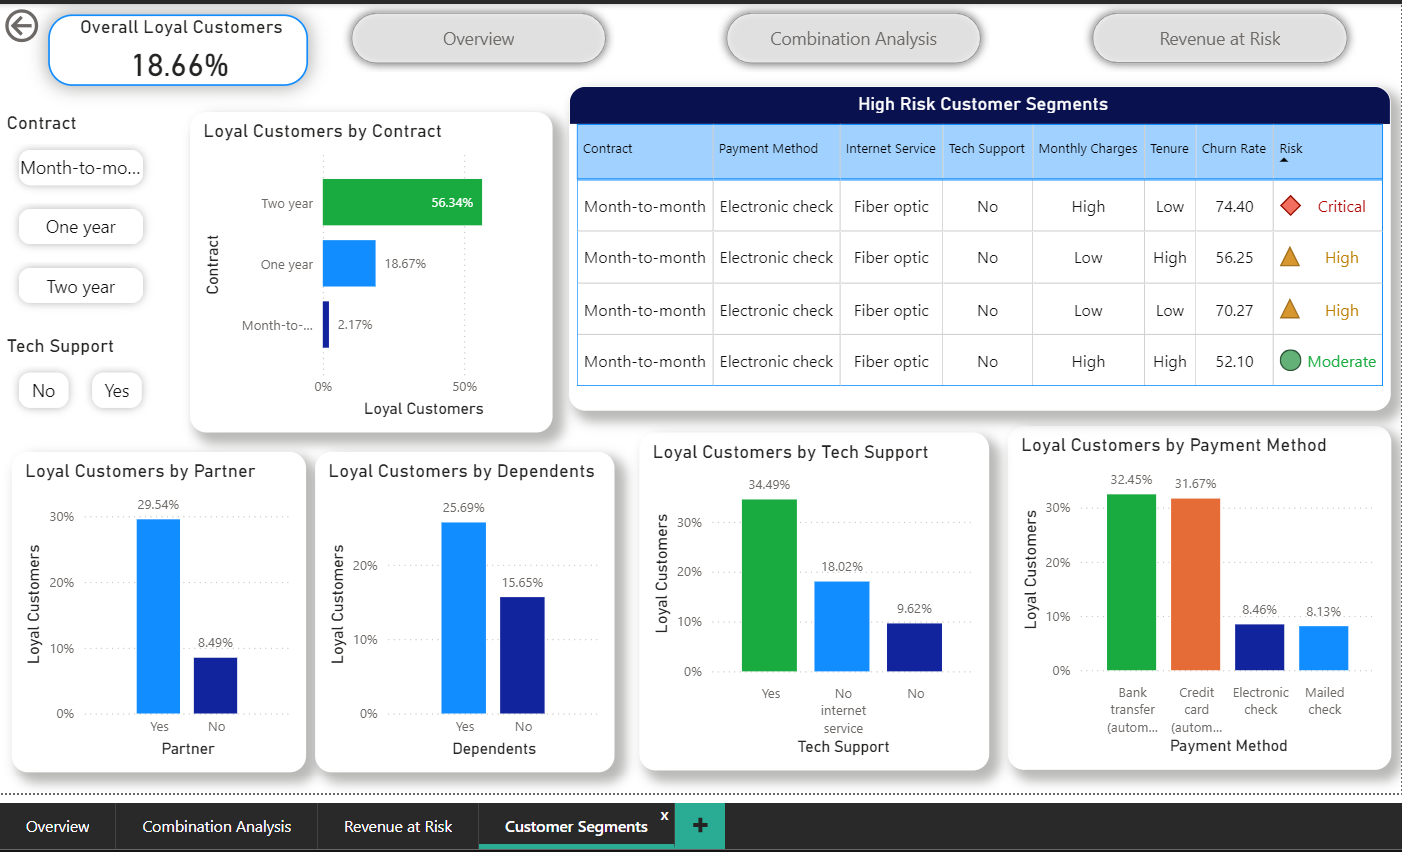

Layout of this report page (visuals, bound fields, positions):
{"tool":"powerbi","page":{"name":"Customer Segments","canvas":[1280,720],"ordinal":3},"visuals":[{"type":"barChart","fields":{"Category":["TELCO Churn.Contract"],"Y":["_Measures.Loyal Customers"]},"box":[173.8,98.8,331.2,292.5],"z":1000},{"type":"columnChart","fields":{"Category":["TELCO Churn.Payment Method"],"Y":["_Measures.Loyal Customers"]},"box":[920,385,350,313.8],"z":2000},{"type":"columnChart","fields":{"Category":["TELCO Churn.Partner"],"Y":["TELCO Churn.Loyal Customers"]},"box":[11.2,408.8,268.8,292.5],"z":3000},{"type":"columnChart","fields":{"Category":["TELCO Churn.Dependents"],"Y":["_Measures.Loyal Customers"]},"box":[287.5,408.8,273.8,292.5],"z":4000},{"type":"columnChart","fields":{"Category":["TELCO Churn.Tech Support"],"Y":["TELCO Churn.Loyal Customers"]},"box":[583.4,390.7,319.4,308.8],"z":5000},{"type":"actionButton","box":[0,0,100,40],"z":6000},{"type":"advancedSlicerVisual","title":"Tech Support","fields":{"Values":["TELCO Churn.Tech Support"]},"box":[1.2,302.5,145,82.5],"z":7000},{"type":"advancedSlicerVisual","title":"Contract","fields":{"Values":["TELCO Churn.Contract"]},"box":[1.2,98.8,145,191.2],"z":8000},{"type":"tableEx","title":"High Risk Customer Segments","fields":{"Values":["High Risk Profile.Contract","High Risk Profile.Payment Method","High Risk Profile.Internet Service","High Risk Profile.Tech Support","High Risk Profile.Monthly Charges","High Risk Profile.Tenure","High Risk Profile.Churn Rate(%)","High Risk Profile.Risk"]},"box":[520,75,750,296.2],"z":9000},{"type":"actionButton","box":[655,0,248.8,62.5],"z":10000},{"type":"actionButton","box":[312.5,0,248.8,62.5],"z":11000},{"type":"actionButton","box":[989.9,0,249.4,62],"z":12000},{"type":"card","title":"Overall Loyal Customers","fields":{"Values":["_KPIs.Overall Loyal Customers"]},"box":[43.8,10,237.5,65],"z":13000}]}

Visuals, with their boxes on the page's 1280x720 design canvas (x1, y1, x2, y2). These are canvas units, not pixel positions in the 1402x852 screenshot, which may show the page scaled, cropped or inside an application window:
barChart - TELCO Churn.Contract x _Measures.Loyal Customers: pyautogui.locateOnScreen(174, 99, 505, 391)
columnChart - TELCO Churn.Payment Method x _Measures.Loyal Customers: pyautogui.locateOnScreen(920, 385, 1270, 699)
columnChart - TELCO Churn.Partner x TELCO Churn.Loyal Customers: pyautogui.locateOnScreen(11, 409, 280, 701)
columnChart - TELCO Churn.Dependents x _Measures.Loyal Customers: pyautogui.locateOnScreen(288, 409, 561, 701)
columnChart - TELCO Churn.Tech Support x TELCO Churn.Loyal Customers: pyautogui.locateOnScreen(583, 391, 903, 700)
actionButton: pyautogui.locateOnScreen(0, 0, 100, 40)
"Tech Support" advancedSlicerVisual: pyautogui.locateOnScreen(1, 302, 146, 385)
"Contract" advancedSlicerVisual: pyautogui.locateOnScreen(1, 99, 146, 290)
"High Risk Customer Segments" tableEx: pyautogui.locateOnScreen(520, 75, 1270, 371)
actionButton: pyautogui.locateOnScreen(655, 0, 904, 62)
actionButton: pyautogui.locateOnScreen(312, 0, 561, 62)
actionButton: pyautogui.locateOnScreen(990, 0, 1239, 62)
"Overall Loyal Customers" card: pyautogui.locateOnScreen(44, 10, 281, 75)
